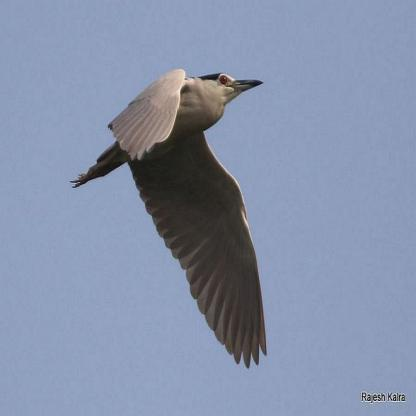Burung: (68, 70, 264, 365)
